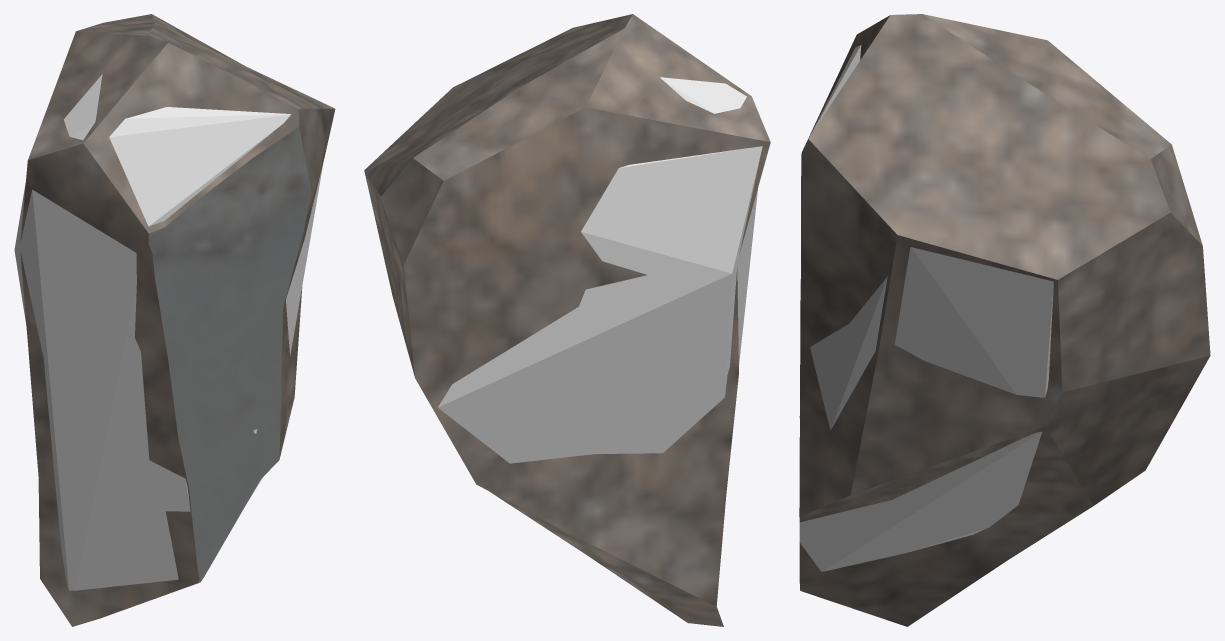
Rendered from SM_Rock_26.fbx.
3 views of the same model, side by side, from view 1: azimuth 30°, elevation 25°; view 2: azimuth 150°, elevation 25°; view 3: azimuth 270°, elevation 25° (orthographic). The views are drawn at different scales.
Visible parts, largest first — view 1: SM_Rock_26_LOD0, SM_Rock_26_ConvexHulls; view 2: SM_Rock_26_LOD0, SM_Rock_26_ConvexHulls; view 3: SM_Rock_26_LOD0, SM_Rock_26_ConvexHulls.
Part boxes in pixels (x1,y1,x2,y2): SM_Rock_26_LOD0: [20, 14, 335, 626]; SM_Rock_26_ConvexHulls: [14, 74, 323, 590]; SM_Rock_26_LOD0: [364, 14, 770, 626]; SM_Rock_26_ConvexHulls: [438, 77, 762, 463]; SM_Rock_26_LOD0: [799, 14, 1210, 626]; SM_Rock_26_ConvexHulls: [799, 45, 1053, 571].
Bounding box in the file's own units: 24.63 × 23.9 × 41.41.
